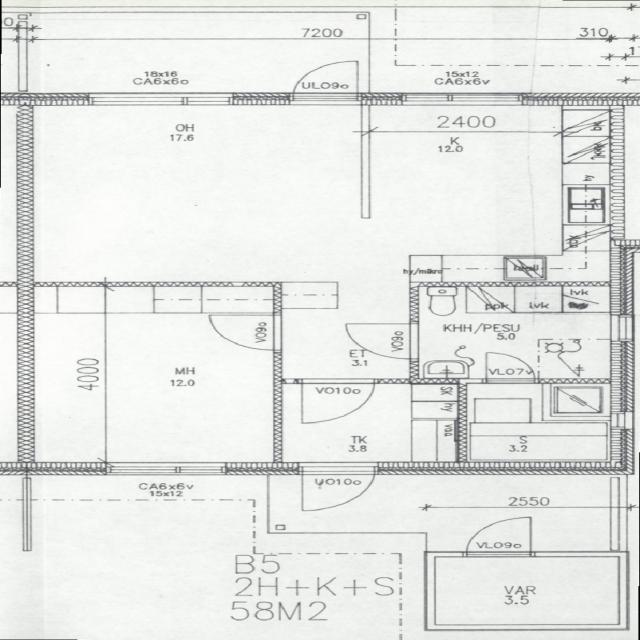door: (302, 461, 374, 514), (302, 378, 374, 422), (293, 58, 357, 105), (467, 515, 531, 555), (210, 315, 282, 350), (346, 324, 419, 358), (486, 352, 534, 383)
